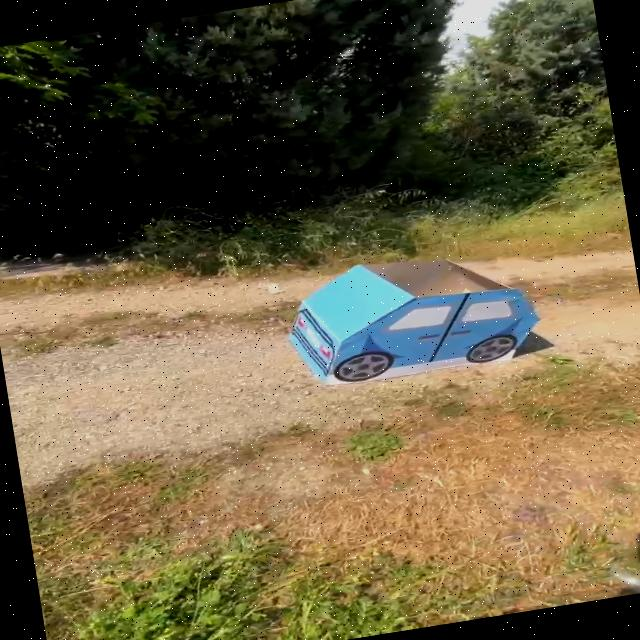blue_car: (251, 225, 562, 411)
